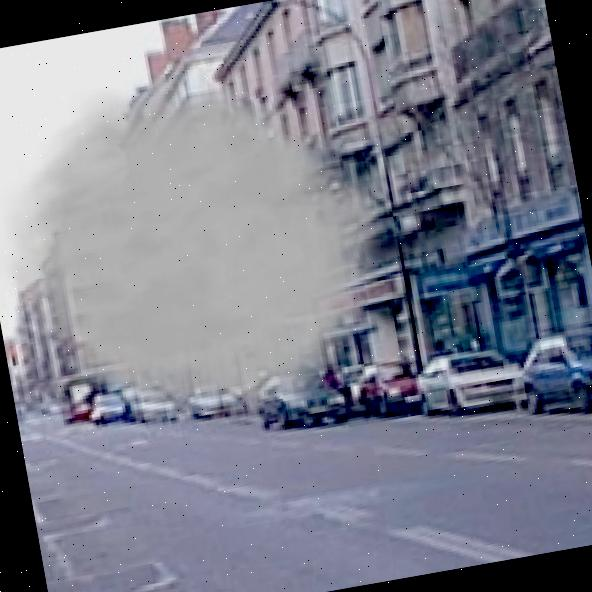smoke: (0, 42, 424, 464)
